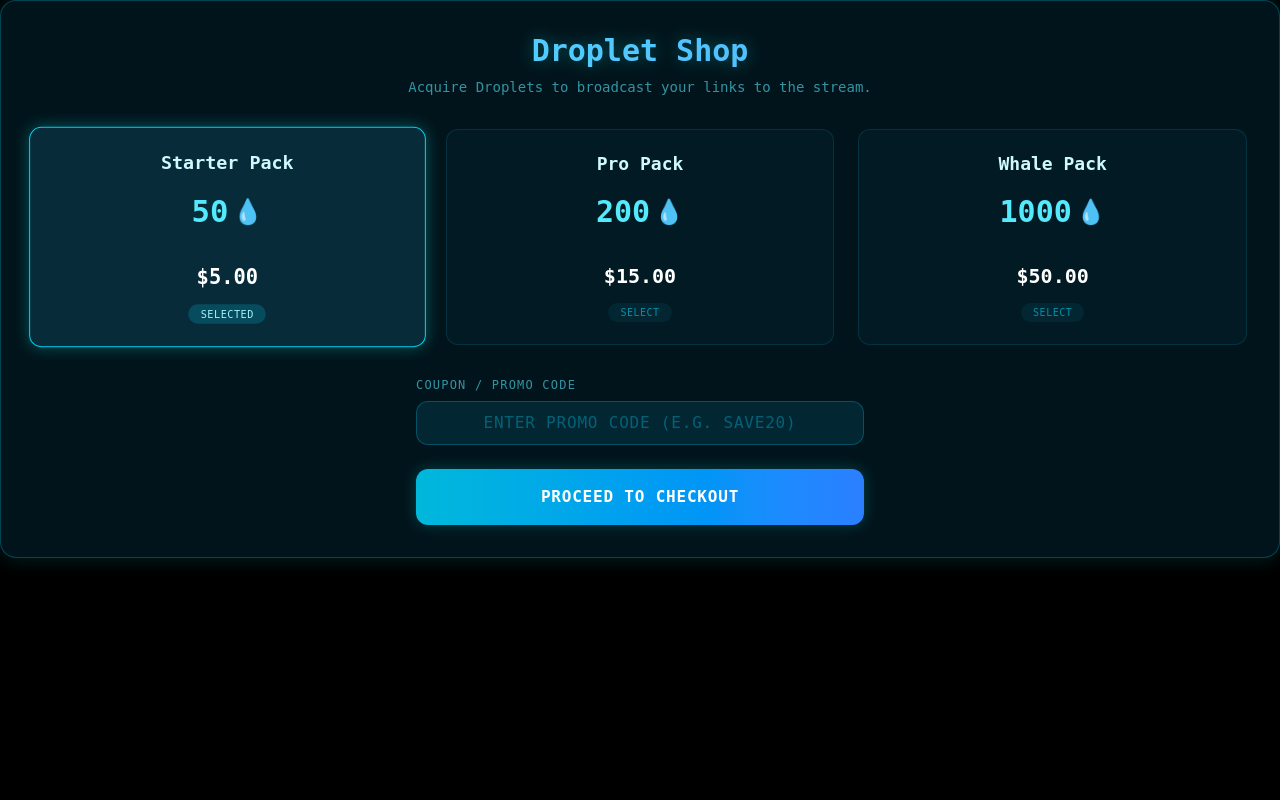
Test: DropletShop Component Unit Tests › displays user-friendly error message on failed checkout
# Click checkout button
Click the button "Proceed to Checkout": (640, 497) [416,469,864,525]
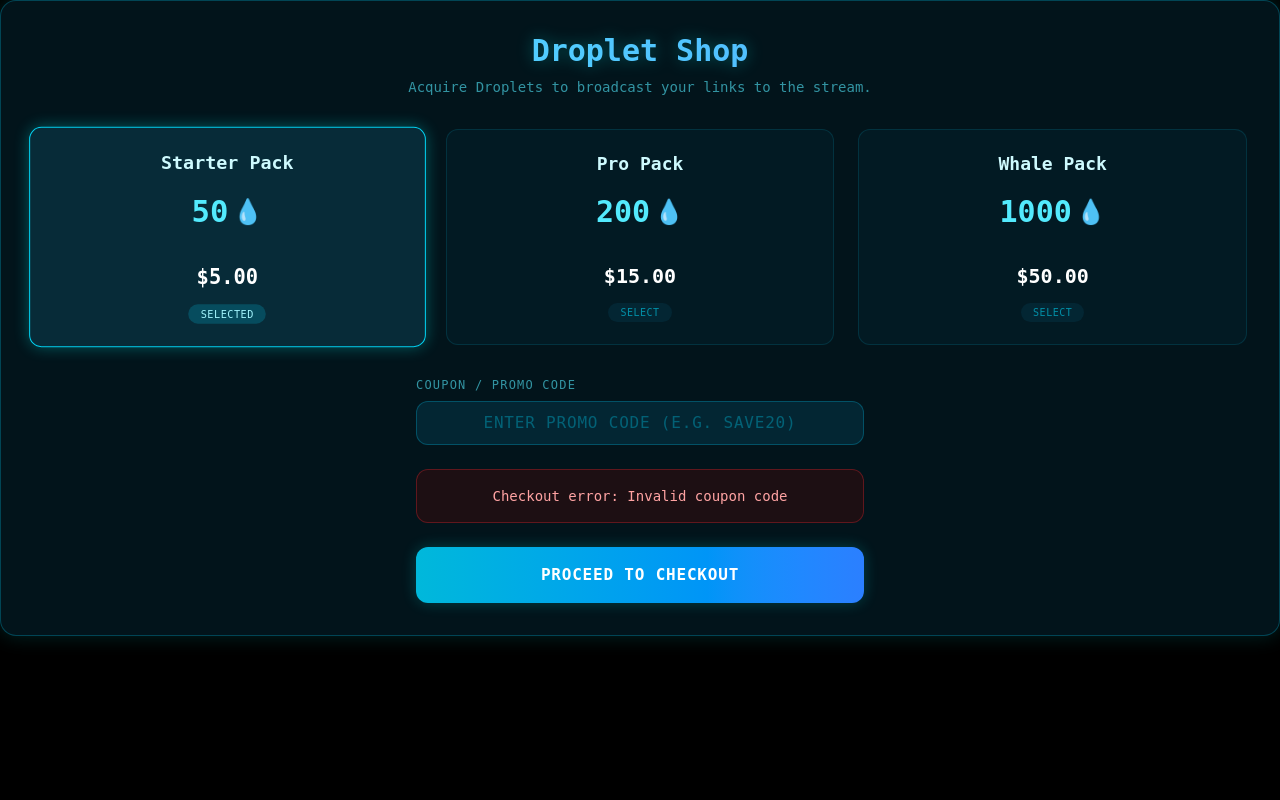
Result: the text "Checkout error: Invalid coupon code" is shown at [416,469,864,523]
